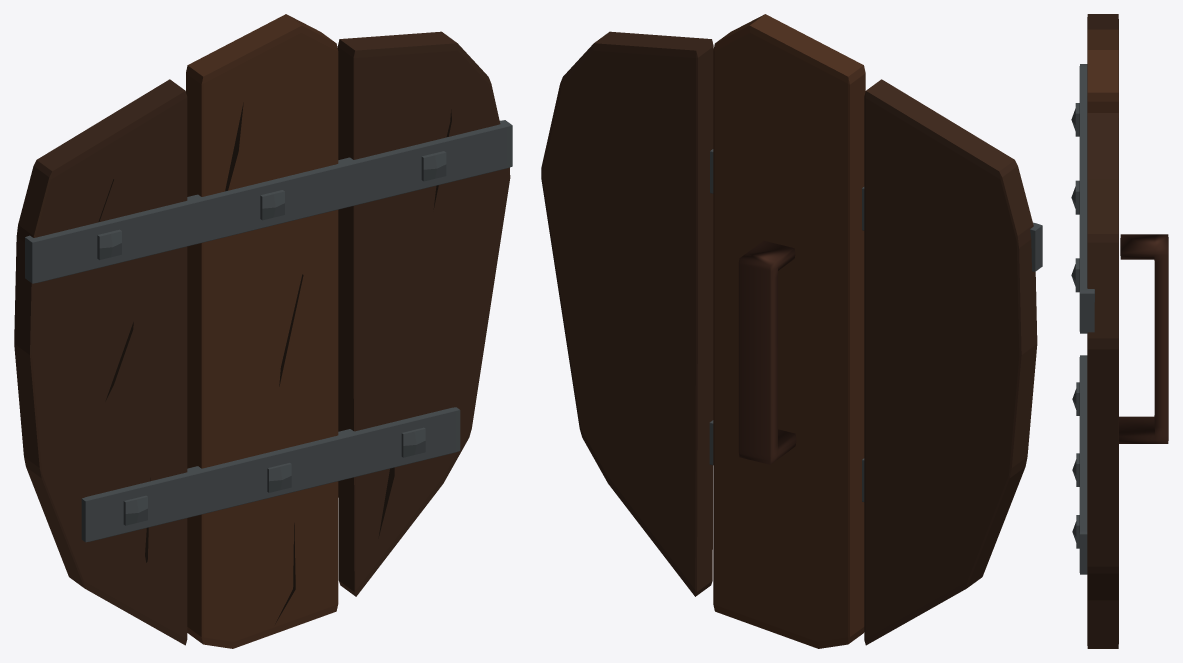
File: shield_wood_poor_2.glb
3 renders of one model, left to right at view 1: azimuth 30°, elevation 25°; view 2: azimuth 150°, elevation 25°; view 3: azimuth 270°, elevation 25°, orthographic. The views are drawn at different scales.
Visible parts, largest first — view 1: Middle, Left, Right, Iron_1, Iron_1.001; view 2: Middle, Left, Right, Cube.001, Iron_1; view 3: Right, Cube.001, Iron_1, Middle, Iron_1.001, Left, Vis1, Vis1.001, Vis1.002, Vis1.003, Vis1.004, Vis1.005.
Part boxes in pixels (x1,y1,x2,y2): Middle: (186, 14, 338, 648); Left: (14, 79, 187, 645); Right: (337, 31, 510, 596); Iron_1: (25, 120, 512, 283); Iron_1.001: (81, 407, 460, 542); Middle: (713, 14, 865, 648); Left: (864, 79, 1037, 645); Right: (541, 31, 713, 596); Cube.001: (738, 240, 796, 464); Iron_1: (710, 149, 1042, 271); Right: (1087, 113, 1118, 648); Cube.001: (1119, 234, 1168, 443); Iron_1: (1079, 64, 1094, 333); Middle: (1087, 29, 1118, 648); Iron_1.001: (1079, 355, 1087, 574); Left: (1087, 14, 1118, 33); Vis1: (1071, 258, 1079, 292); Vis1.001: (1071, 180, 1079, 214); Vis1.002: (1071, 103, 1079, 136); Vis1.003: (1072, 515, 1079, 548); Vis1.004: (1072, 453, 1079, 486); Vis1.005: (1072, 382, 1079, 415).
Bounding box in the file's own units: 0.3162 × 0.3805 × 0.0564.
